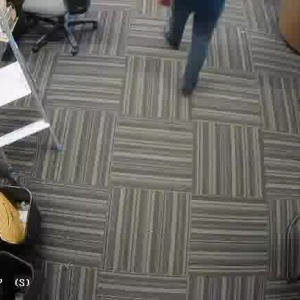person: (168, 0, 235, 102)
